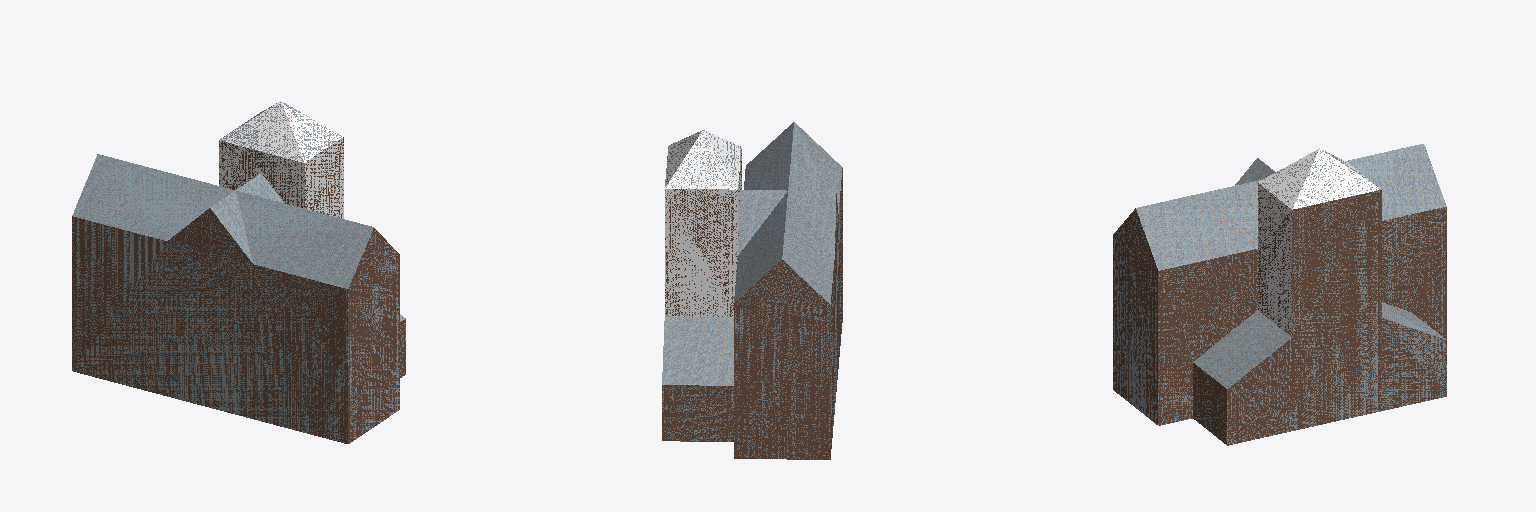
3 views of the same model, side by side, from view 1: azimuth 30°, elevation 25°; view 2: azimuth 150°, elevation 25°; view 3: azimuth 270°, elevation 25° (orthographic).
Parts seen in each view (by area): view 1: Mesh1 Transept_ottonien Model; view 2: Mesh1 Transept_ottonien Model; view 3: Mesh1 Transept_ottonien Model.
Part boxes in pixels (x1,y1,x2,y2): Mesh1 Transept_ottonien Model: (72, 101, 405, 443); Mesh1 Transept_ottonien Model: (662, 122, 842, 459); Mesh1 Transept_ottonien Model: (1113, 144, 1446, 445).
Bounding box in the file's own units: 47.83 × 48.07 × 56.08.
Materials: 4 (1 with a texture image).